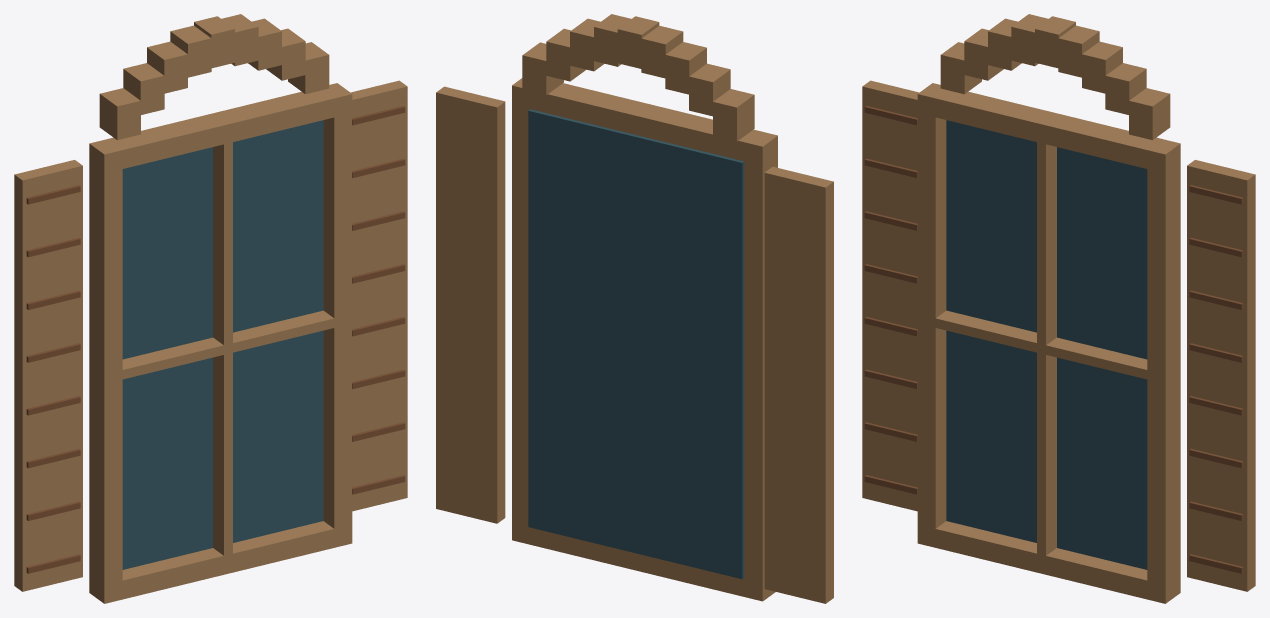
Rendered from window_14.glb.
3 renders of one model, left to right at view 1: azimuth 30°, elevation 25°; view 2: azimuth 150°, elevation 25°; view 3: azimuth 330°, elevation 25°, orthographic.
Parts seen in each view (by area): view 1: window_14; view 2: window_14; view 3: window_14.
Part boxes in pixels (x1=…): window_14: x1=14, y1=14, x2=407, y2=603; window_14: x1=436, y1=14, x2=833, y2=603; window_14: x1=862, y1=14, x2=1255, y2=603.
Bounding box in the file's own units: 1.91 × 2.55 × 0.195.
